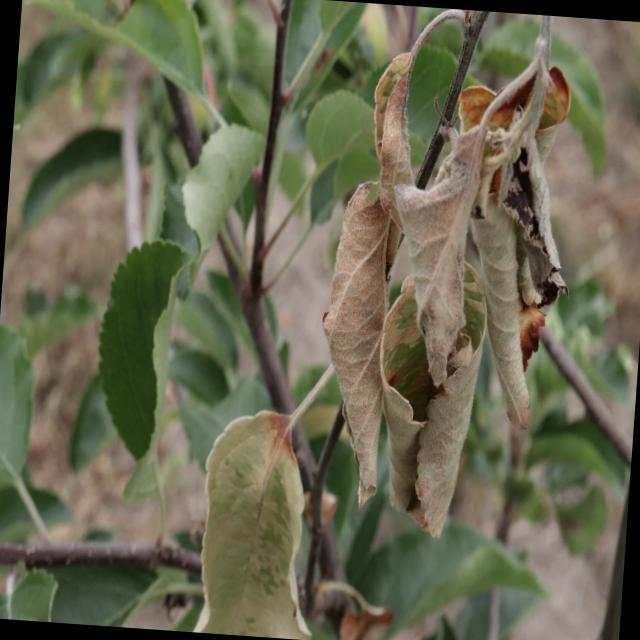-FireBlight-: (166, 25, 603, 640)
